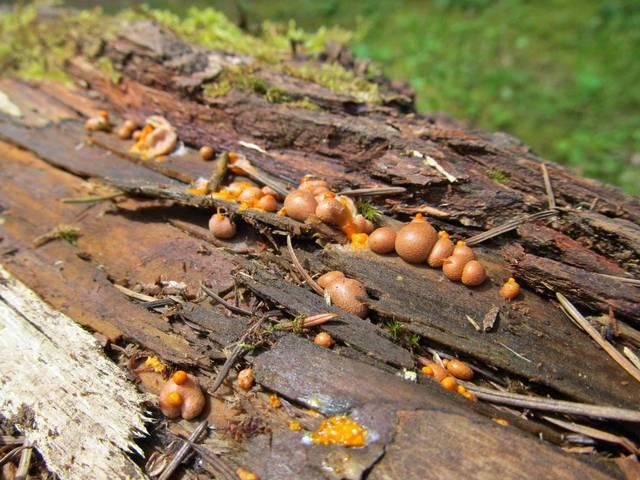Non-edible Mushroom: (157, 369, 205, 420), (394, 212, 436, 263), (323, 276, 368, 318), (441, 239, 474, 280), (282, 188, 316, 220), (427, 229, 453, 267), (207, 205, 236, 239), (367, 226, 395, 254), (460, 259, 486, 286), (498, 276, 520, 299)
